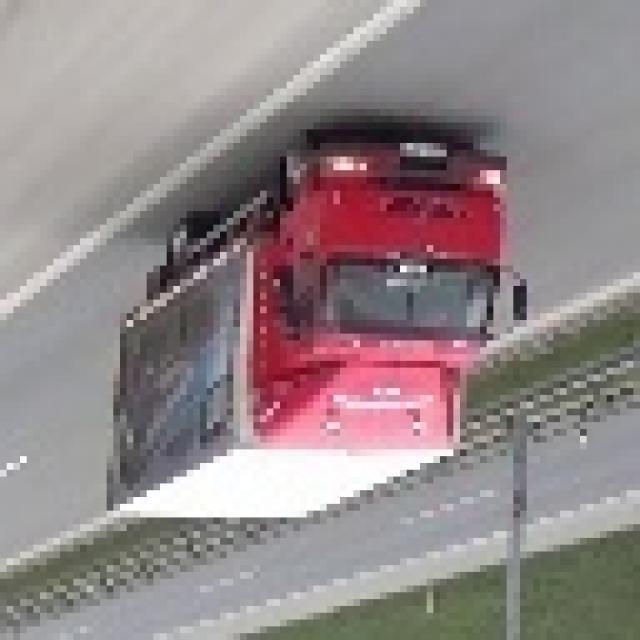Truck: (114, 136, 534, 531)
